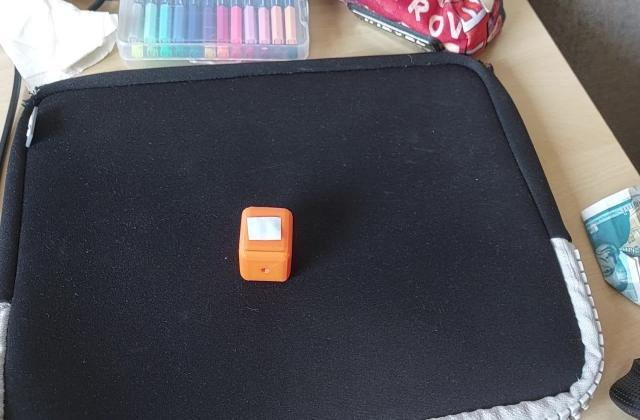sticker: (237, 206, 294, 284)
white: (244, 214, 284, 242)
